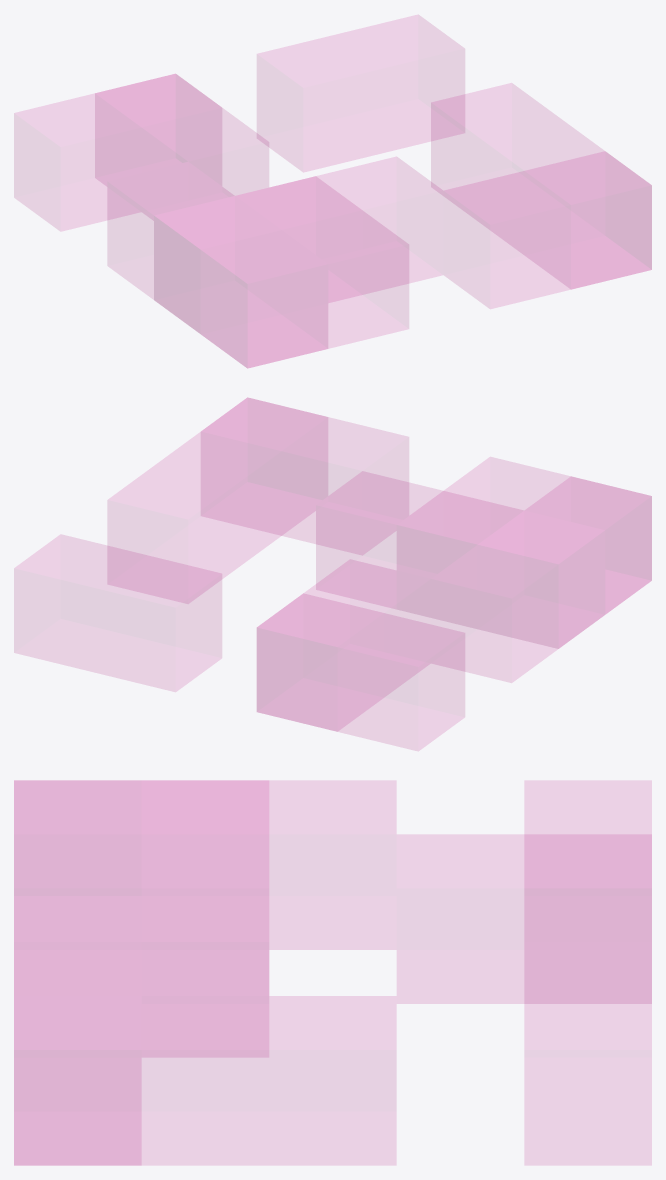
Rendered from tileset_template.fbx_TilesetSubtractions.fbx.
3 views of the same model, one above another, from view 1: azimuth 30°, elevation 25°; view 2: azimuth 150°, elevation 25°; view 3: azimuth 270°, elevation 25° (orthographic). The views are drawn at different scales.
Parts seen in each view (by area): view 1: Cube.006, Cube.005, Cube.004, Cube.007, Cube, Cube.002, Cube.003, Cube.008; view 2: Cube.006, Cube.005, Cube.007, Cube, Cube.002, Cube.004, Cube.008, Cube.003; view 3: Cube.005, Cube.006, Cube.008, Cube.002, Cube.004, Cube.007.
Part boxes in pixels (x1,y1,x2,y2): Cube.006: [257, 15, 464, 171]; Cube.005: [431, 83, 603, 189]; Cube.004: [444, 171, 569, 308]; Cube.007: [14, 94, 106, 230]; Cube: [317, 157, 442, 282]; Cube.002: [108, 162, 233, 298]; Cube.003: [329, 211, 408, 347]; Cube.008: [222, 108, 268, 194]; Cube.006: [14, 535, 221, 691]; Cube.005: [108, 432, 280, 577]; Cube.007: [338, 614, 464, 750]; Cube: [316, 472, 441, 582]; Cube.002: [431, 545, 556, 682]; Cube.004: [282, 418, 408, 543]; Cube.008: [305, 560, 430, 623]; Cube.003: [445, 457, 569, 509]; Cube.005: [141, 996, 395, 1164]; Cube.006: [525, 942, 651, 1164]; Cube.008: [397, 835, 523, 1003]; Cube.002: [269, 781, 395, 949]; Cube.004: [14, 942, 140, 995]; Cube.007: [525, 781, 651, 833].
Size of the model in its own units: 1000 by 200 by 1000.
